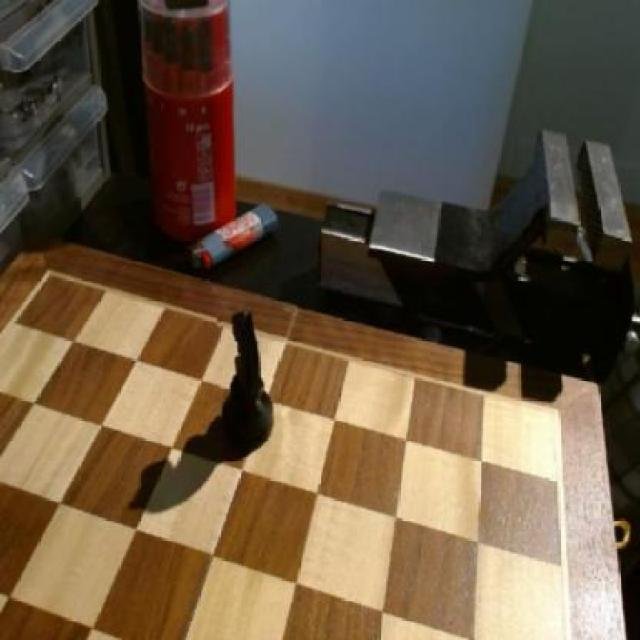black-king: (218, 303, 282, 453)
